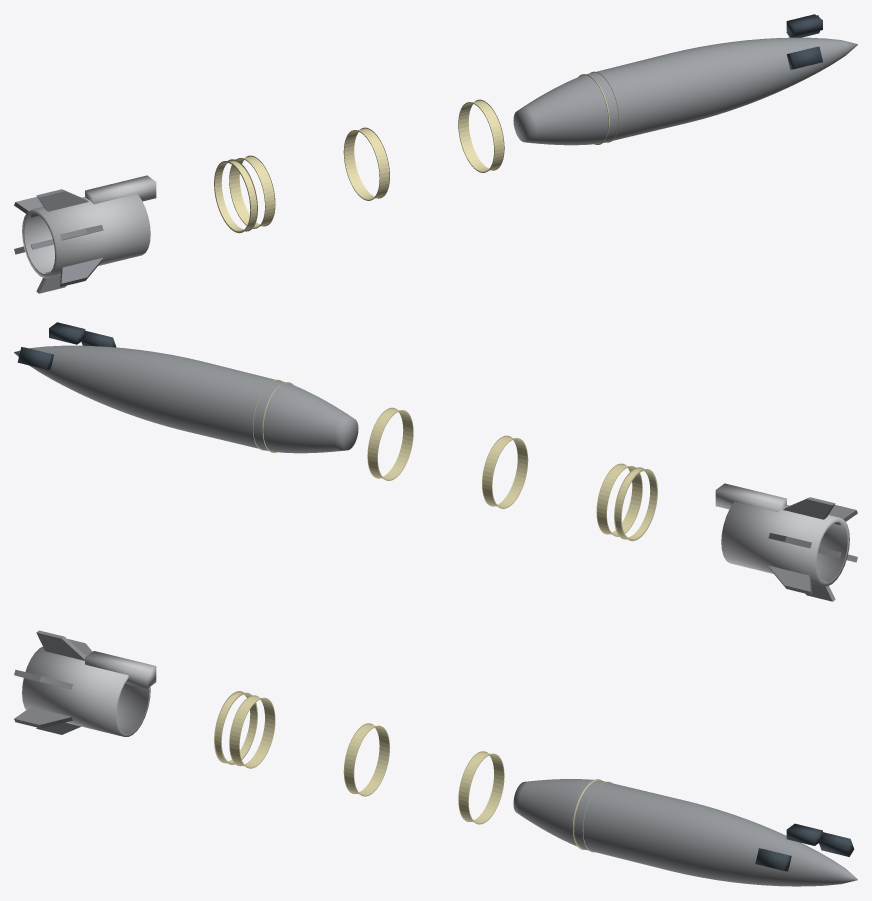
The model's file is UK_TORP_Spearfish_Mod1_LOD0.fbx.
3 renders of one model, top to bottom at view 1: azimuth 30°, elevation 25°; view 2: azimuth 150°, elevation 25°; view 3: azimuth 330°, elevation 25°, orthographic.
Parts seen in each view (by area): view 1: WPN_UK_TORP_Spearfish_Mod1_LOD0_Body, WPN_UK_TORP_Spearfish_Mod1_LOD0_Propulsor, WPN_UK_TORP_Spearfish_Mod1_LOD0_Marking, WPN_UK_TORP_Spearfish_Mod1_LOD0_Fins, WPN_UK_TORP_Spearfish_Mod1_LOD0_Seeker, WPN_UK_TORP_Spearfish_Mod1_LOD0_Detail; view 2: WPN_UK_TORP_Spearfish_Mod1_LOD0_Body, WPN_UK_TORP_Spearfish_Mod1_LOD0_Propulsor, WPN_UK_TORP_Spearfish_Mod1_LOD0_Marking, WPN_UK_TORP_Spearfish_Mod1_LOD0_Fins, WPN_UK_TORP_Spearfish_Mod1_LOD0_Seeker, WPN_UK_TORP_Spearfish_Mod1_LOD0_Detail; view 3: WPN_UK_TORP_Spearfish_Mod1_LOD0_Body, WPN_UK_TORP_Spearfish_Mod1_LOD0_Propulsor, WPN_UK_TORP_Spearfish_Mod1_LOD0_Marking, WPN_UK_TORP_Spearfish_Mod1_LOD0_Fins, WPN_UK_TORP_Spearfish_Mod1_LOD0_Seeker, WPN_UK_TORP_Spearfish_Mod1_LOD0_Detail.
Part boxes in pixels (box(x1,y1,x2,y2)): WPN_UK_TORP_Spearfish_Mod1_LOD0_Body: box(513, 37, 857, 145); WPN_UK_TORP_Spearfish_Mod1_LOD0_Propulsor: box(22, 194, 150, 278); WPN_UK_TORP_Spearfish_Mod1_LOD0_Marking: box(214, 71, 618, 233); WPN_UK_TORP_Spearfish_Mod1_LOD0_Fins: box(14, 189, 103, 293); WPN_UK_TORP_Spearfish_Mod1_LOD0_Seeker: box(786, 14, 822, 69); WPN_UK_TORP_Spearfish_Mod1_LOD0_Detail: box(85, 175, 156, 204); WPN_UK_TORP_Spearfish_Mod1_LOD0_Body: box(14, 345, 358, 453); WPN_UK_TORP_Spearfish_Mod1_LOD0_Propulsor: box(721, 502, 849, 586); WPN_UK_TORP_Spearfish_Mod1_LOD0_Marking: box(253, 379, 657, 541); WPN_UK_TORP_Spearfish_Mod1_LOD0_Fins: box(768, 497, 857, 601); WPN_UK_TORP_Spearfish_Mod1_LOD0_Seeker: box(17, 322, 116, 370); WPN_UK_TORP_Spearfish_Mod1_LOD0_Detail: box(715, 483, 786, 512); WPN_UK_TORP_Spearfish_Mod1_LOD0_Body: box(513, 779, 857, 886); WPN_UK_TORP_Spearfish_Mod1_LOD0_Propulsor: box(22, 646, 150, 736); WPN_UK_TORP_Spearfish_Mod1_LOD0_Marking: box(214, 691, 611, 852); WPN_UK_TORP_Spearfish_Mod1_LOD0_Fins: box(14, 630, 92, 734); WPN_UK_TORP_Spearfish_Mod1_LOD0_Seeker: box(755, 823, 854, 871); WPN_UK_TORP_Spearfish_Mod1_LOD0_Detail: box(85, 651, 156, 688).
Size of the model in its own units: 7.02 by 0.7026 by 0.7867.
